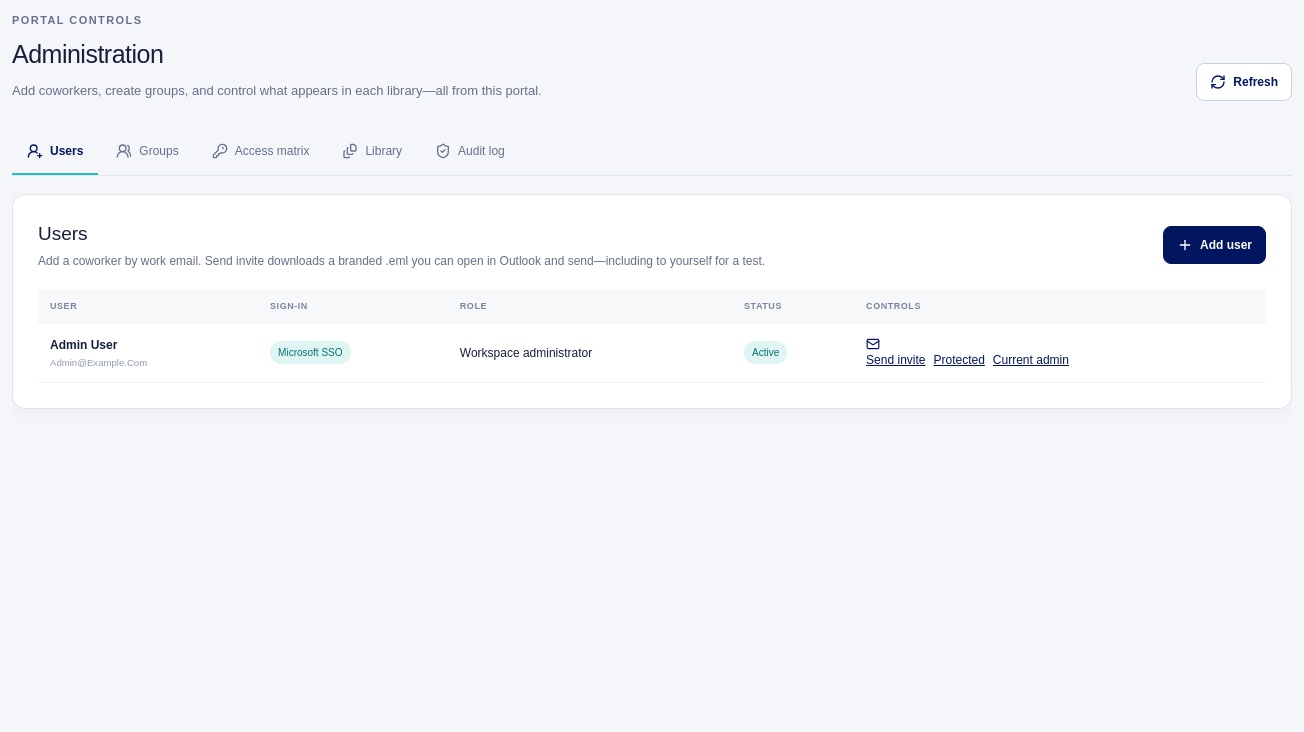
AdminPage access changes › opens the Qlik editor from a dataset-backed library item
This screenshot has width=1304, height=732.
Click the tab "Library" at {"x": 372, "y": 152}, box [327,128,417,174]
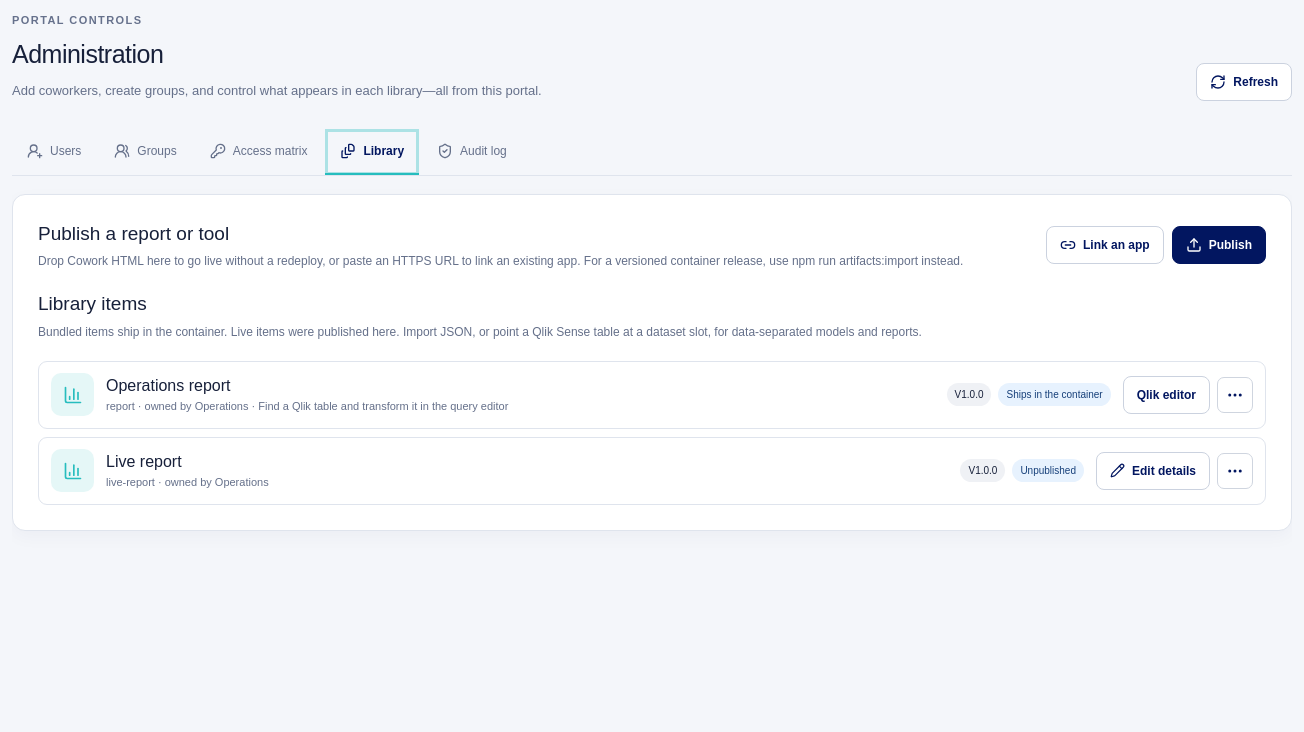
Now the heading "Live report" is shown, box [106,453,182,470]
Now the text "Find a Qlik table" is shown, box [248,400,508,412]
